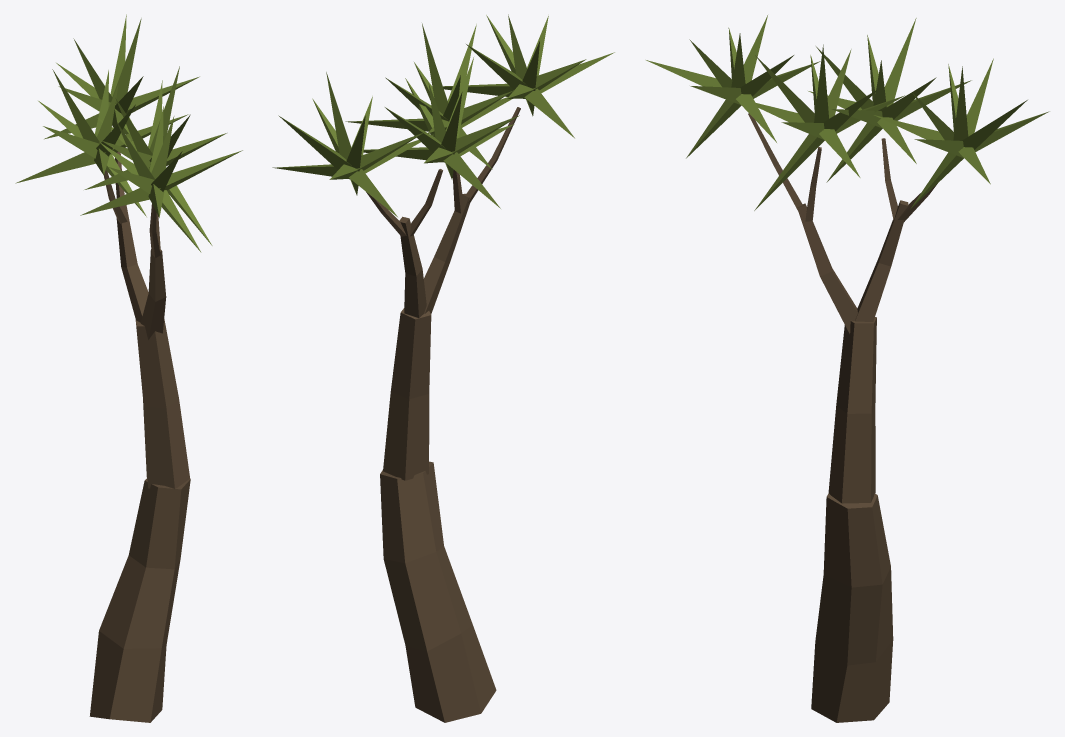
File: Tree_Joshua_C.glb
The picture shows the model from 3 angles, left to right: view 1: azimuth 30°, elevation 25°; view 2: azimuth 150°, elevation 25°; view 3: azimuth 270°, elevation 25°; orthographic projection. The views are drawn at different scales.
Visible parts, largest first — view 1: Tree_Joshua_C; view 2: Tree_Joshua_C; view 3: Tree_Joshua_C.
Boxes of the visible parts, x1,y1,x2,y2 form: Tree_Joshua_C: [15, 14, 242, 722]; Tree_Joshua_C: [272, 14, 614, 722]; Tree_Joshua_C: [646, 15, 1049, 722].
Size of the model in its own units: 1.12 by 3.62 by 1.94.
